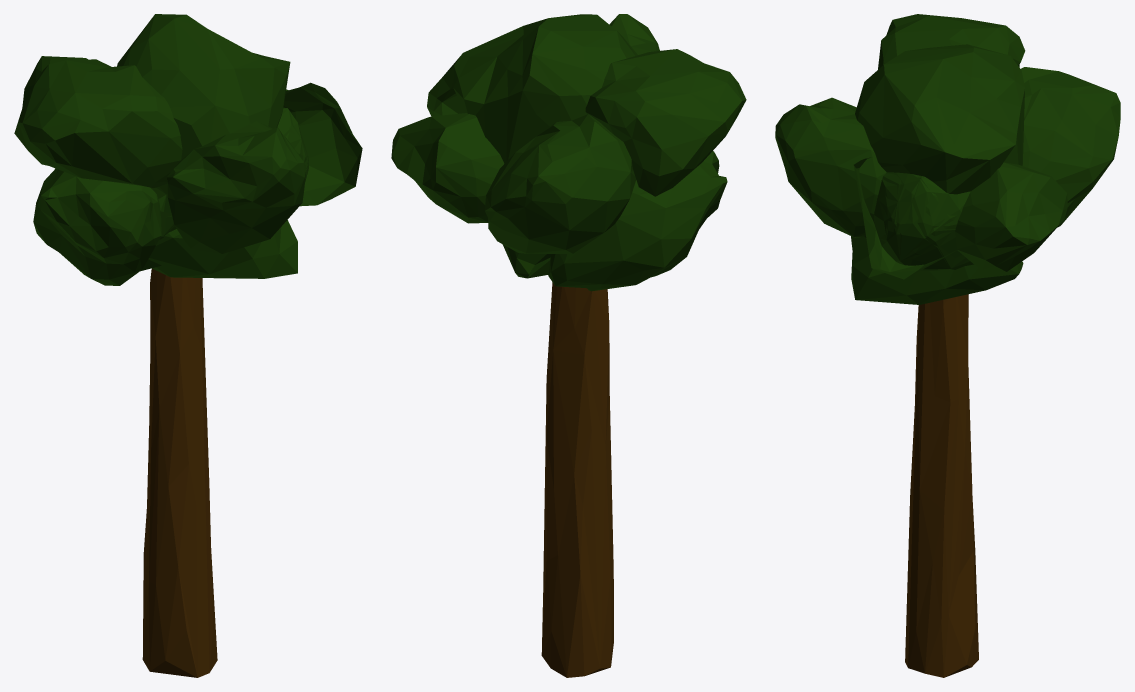
The model's file is tree_1.glb.
3 views of the same model, side by side, from view 1: azimuth 30°, elevation 25°; view 2: azimuth 150°, elevation 25°; view 3: azimuth 270°, elevation 25° (orthographic). The views are drawn at different scales.
Parts seen in each view (by area): view 1: Icosphere; view 2: Icosphere; view 3: Icosphere.
Boxes of the visible parts, box(x1,y1,x2,y2) form: Icosphere: box(14, 14, 362, 677); Icosphere: box(391, 14, 746, 677); Icosphere: box(775, 14, 1120, 677).
Bounding box in the file's own units: 2.43 × 4.74 × 2.38.
